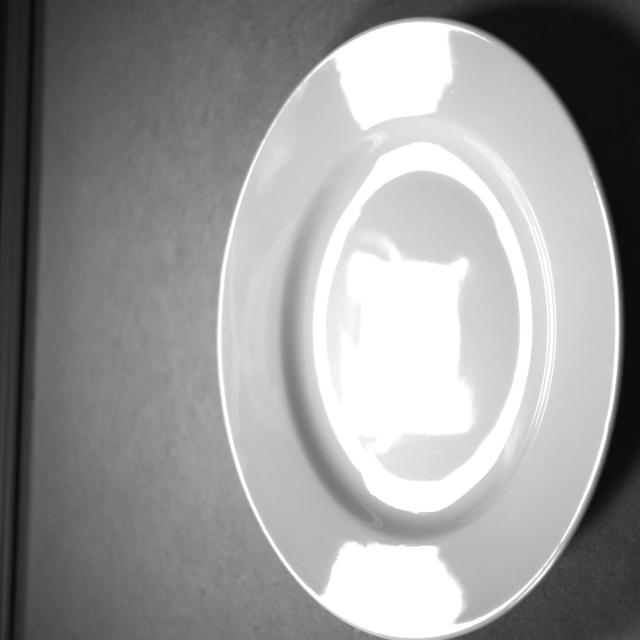Plate: (219, 20, 620, 639)
